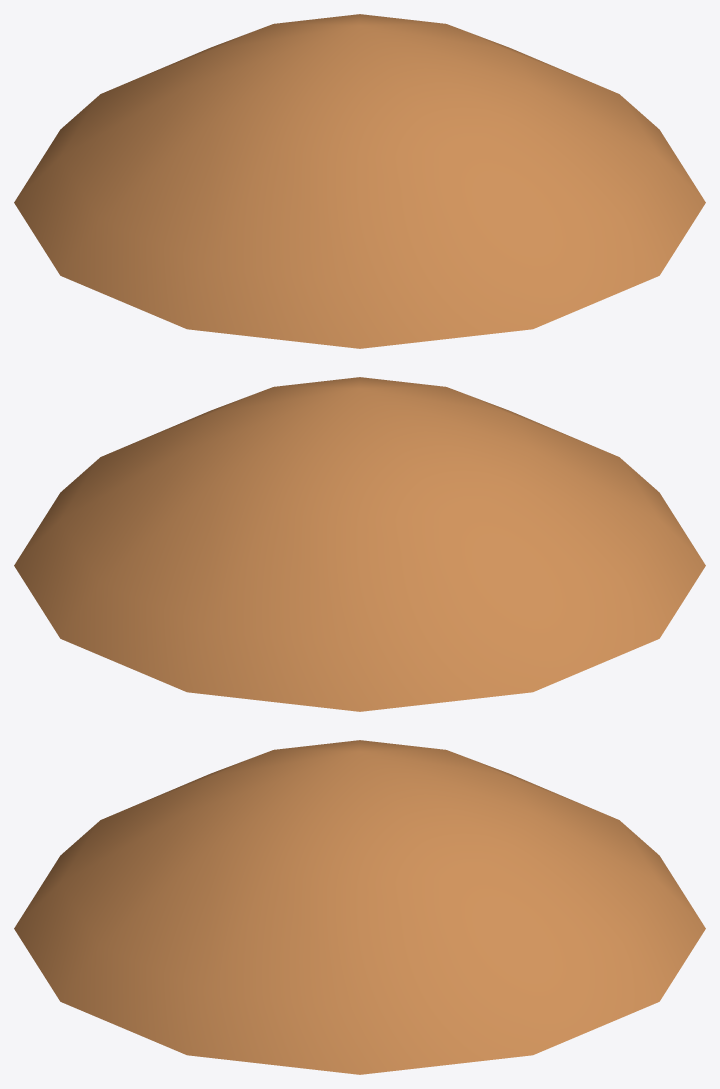
Rendered from sky.fbx.
3 views of the same model, one above another, from view 1: azimuth 30°, elevation 25°; view 2: azimuth 150°, elevation 25°; view 3: azimuth 270°, elevation 25° (orthographic).
Parts seen in each view (by area): view 1: sky; view 2: sky; view 3: sky.
Boxes of the visible parts, x1,y1,x2,y2 form: sky: (14,14,705,348); sky: (14,377,705,711); sky: (14,740,705,1074).
Size of the model in its own units: 5.55e+08 by 1.57e+08 by 5.55e+08.
